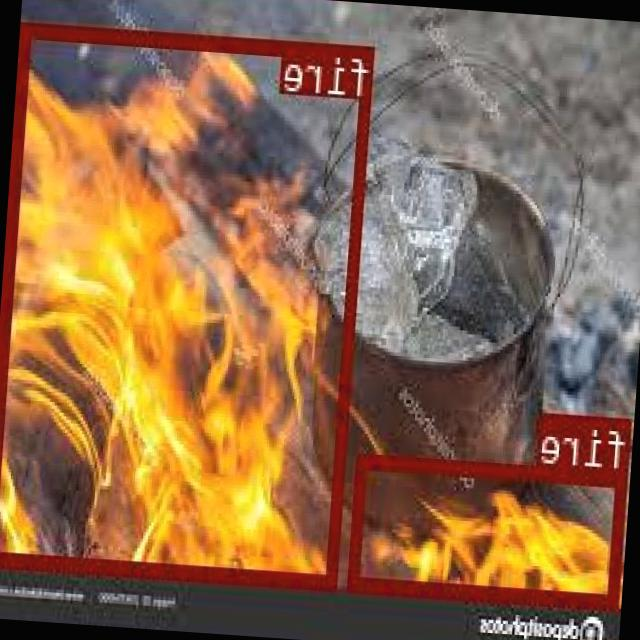fire: (0, 19, 377, 585), (349, 451, 630, 607)
